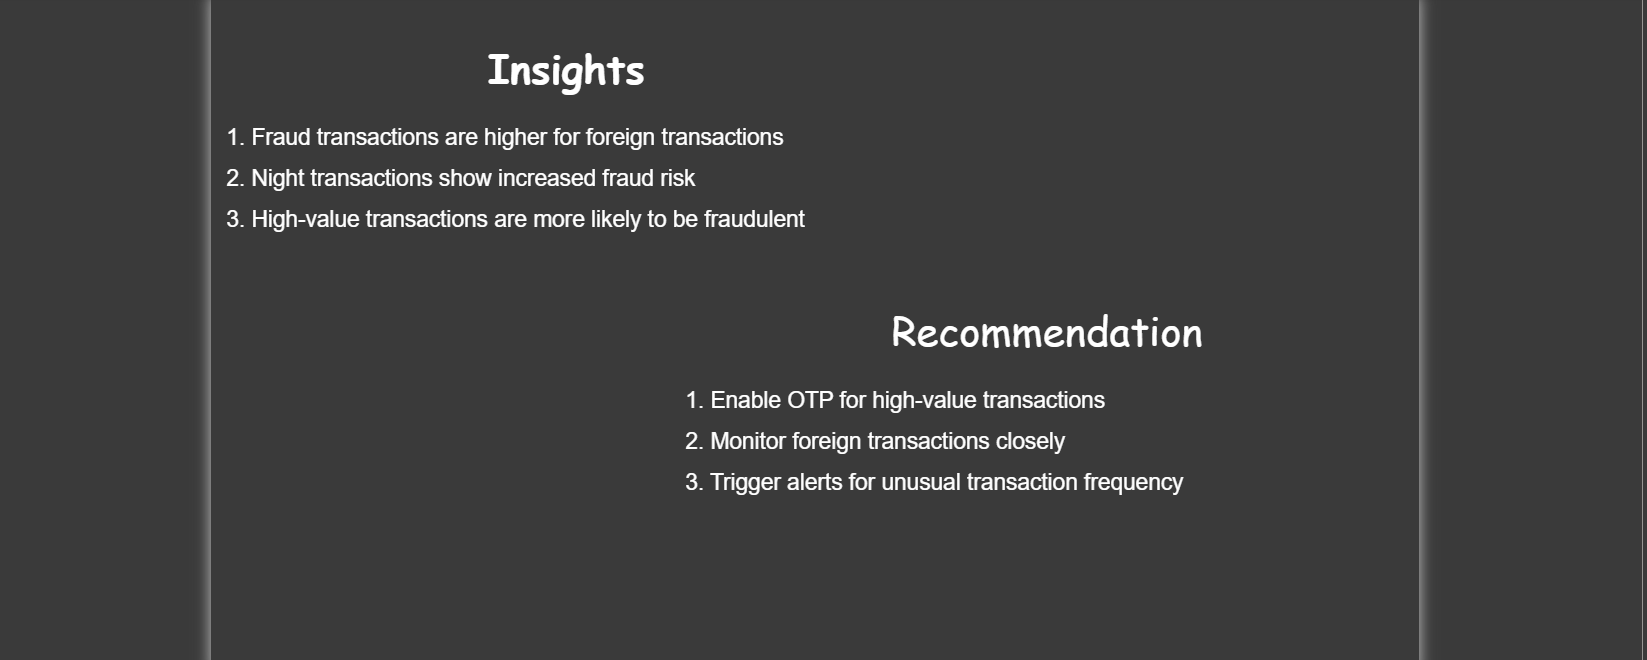

The dashboard page shown, as its layout file describes it:
{"tool":"powerbi","page":{"name":"Insights","canvas":[1280,720],"ordinal":2},"visuals":[{"type":"textbox","box":[10.8,41.5,731.5,267.3],"z":0},{"type":"textbox","box":[498.5,319.7,762.2,265.5],"z":1000}]}

Visuals, with their boxes on the page's 1280x720 design canvas (x1, y1, x2, y2). These are canvas units, not pixel positions in the 1647x660 screenshot, which may show the page scaled, cropped or inside an application window:
textbox: region(11, 42, 742, 309)
textbox: region(498, 320, 1261, 585)
